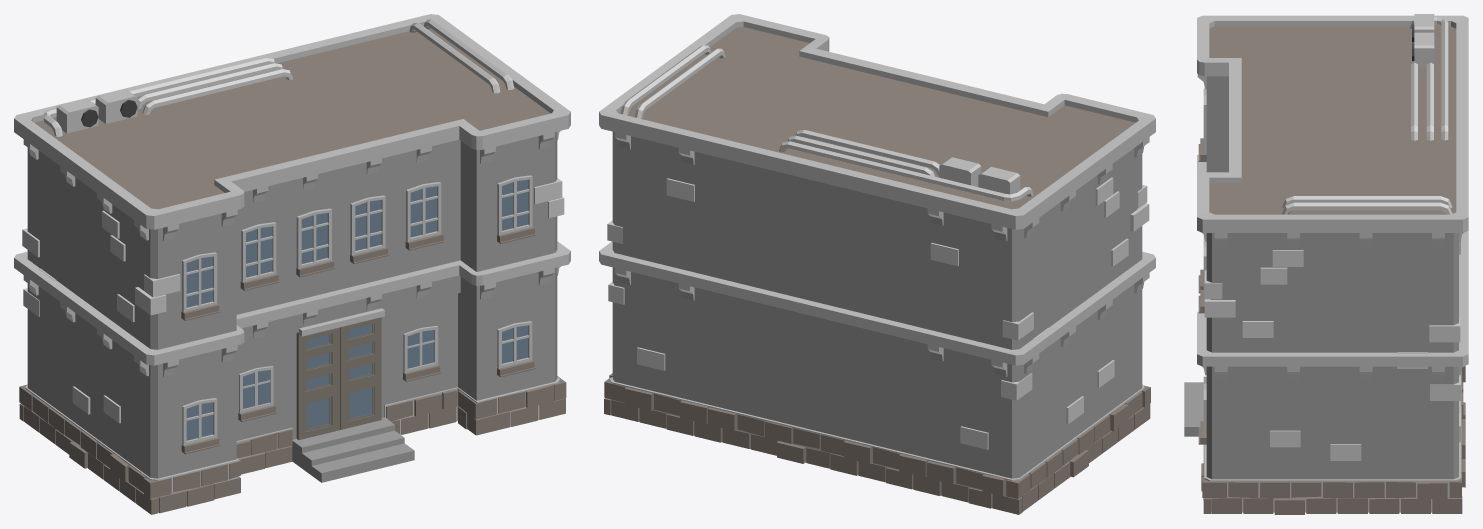
The model's file is 2Story_Wide.glb.
3 renders of one model, left to right at view 1: azimuth 30°, elevation 25°; view 2: azimuth 150°, elevation 25°; view 3: azimuth 270°, elevation 25°, orthographic.
Parts seen in each view (by area): view 1: 2Story_Wide; view 2: 2Story_Wide; view 3: 2Story_Wide.
Part boxes in pixels (box(x1,y1,x2,y2)): 2Story_Wide: box(14, 14, 570, 514); 2Story_Wide: box(599, 14, 1155, 514); 2Story_Wide: box(1184, 14, 1468, 514).
Bounding box in the file's own units: 3.83 × 2.75 × 2.26.
1 material, 1 textured.
